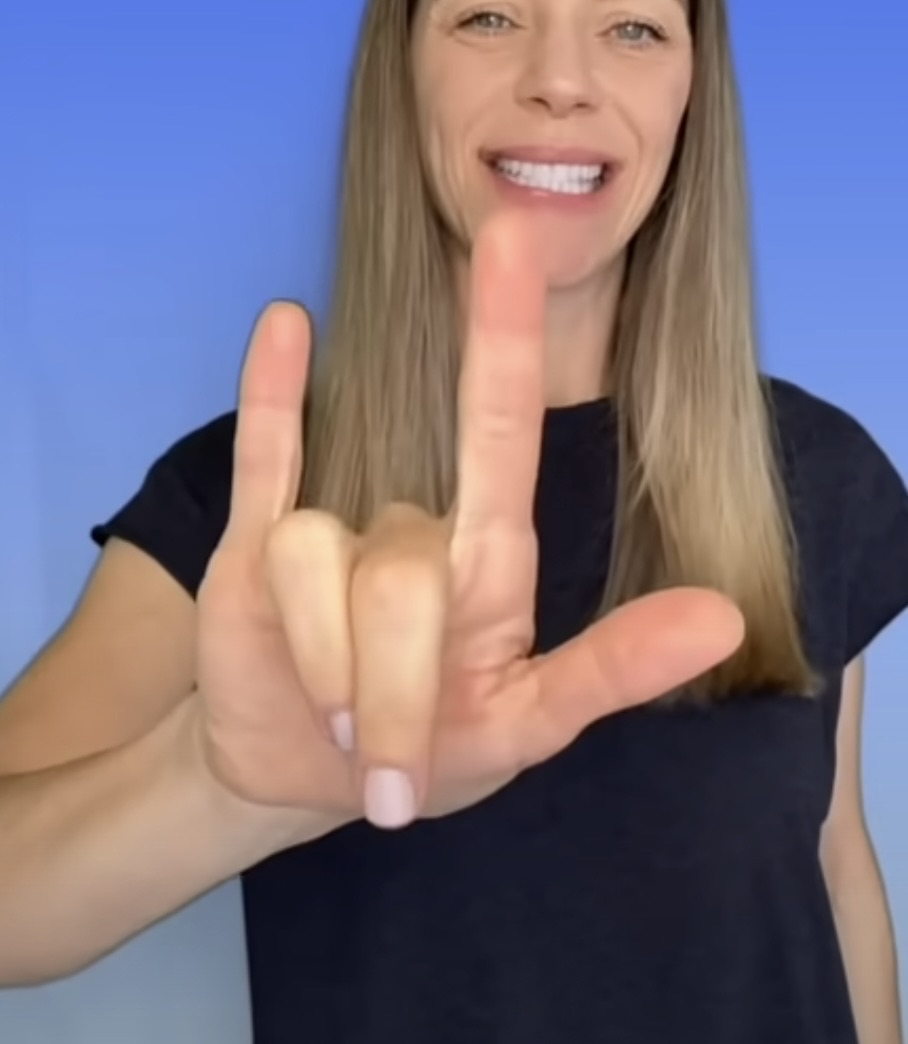loveyou: (234, 192, 757, 835)
